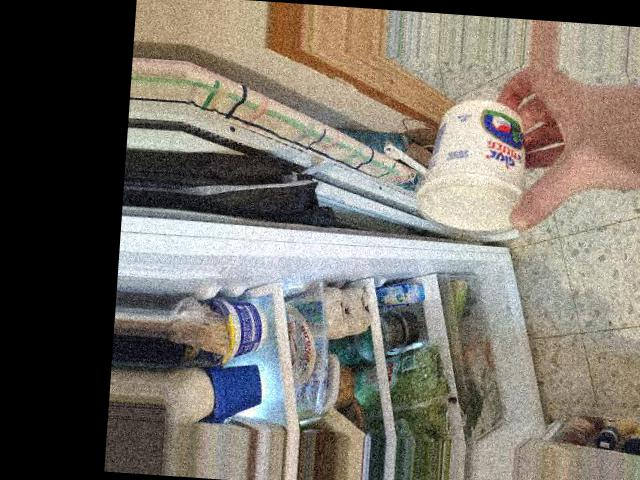cotage: (419, 97, 529, 239)
